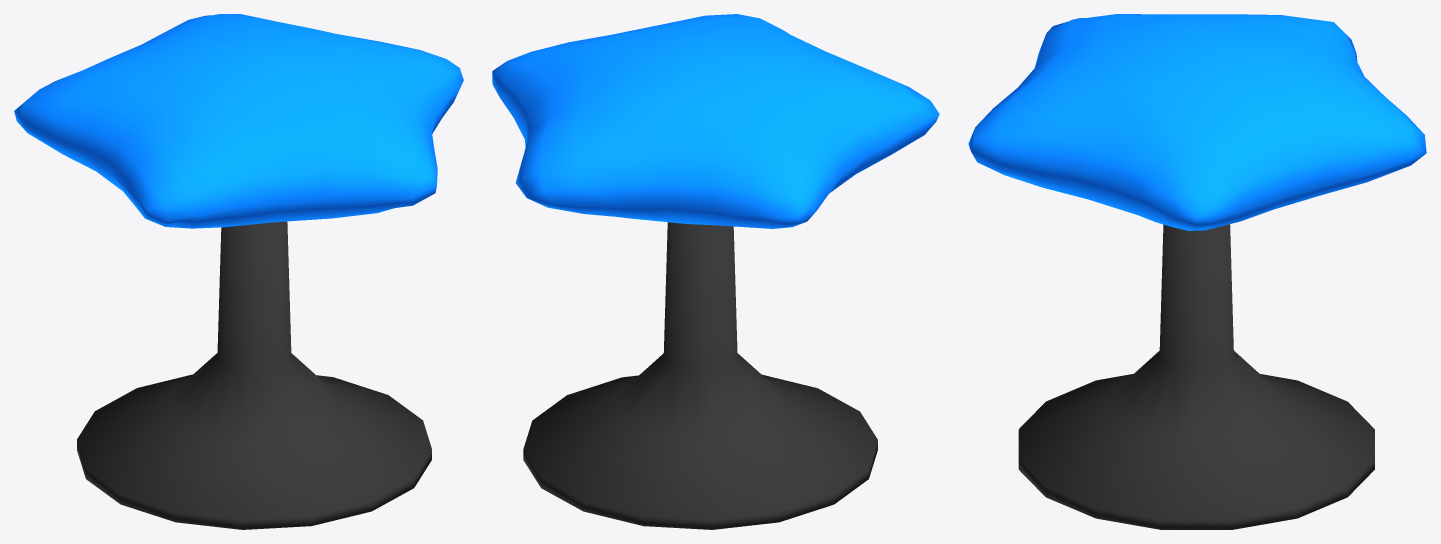
File: StarChair_l.fbx
3 views of the same model, side by side, from view 1: azimuth 30°, elevation 25°; view 2: azimuth 150°, elevation 25°; view 3: azimuth 270°, elevation 25° (orthographic). The views are drawn at different scales.
Visible parts, largest first — view 1: Circle.001; view 2: Circle.001; view 3: Circle.001.
Part boxes in pixels (<box>): Circle.001: <box>14,14,463,529</box>; Circle.001: <box>492,14,939,529</box>; Circle.001: <box>968,14,1426,529</box>.
Size of the model in its own units: 92.97 by 95.19 by 94.04.
